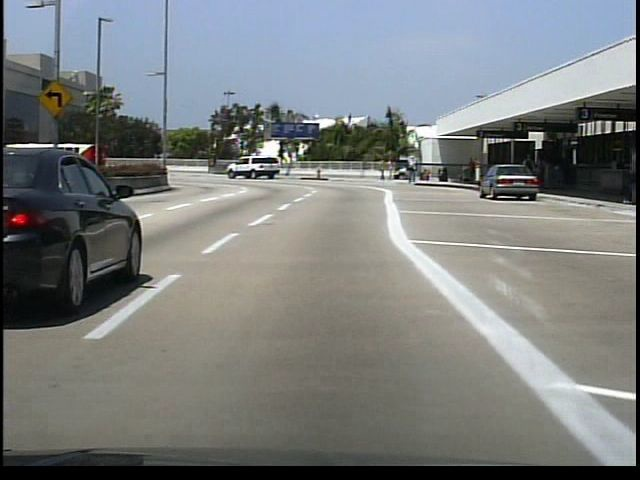person: (520, 151, 540, 197), (465, 157, 478, 187), (408, 153, 418, 186), (378, 157, 387, 182), (387, 157, 395, 181)
